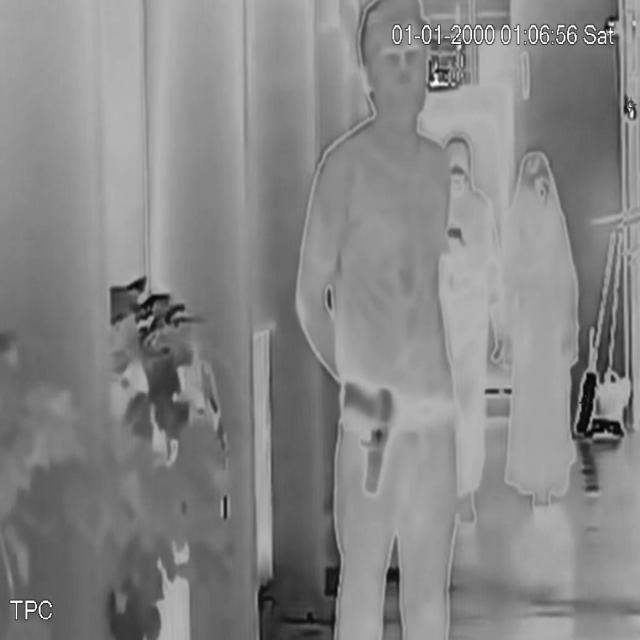Weapon: (336, 371, 403, 506)
